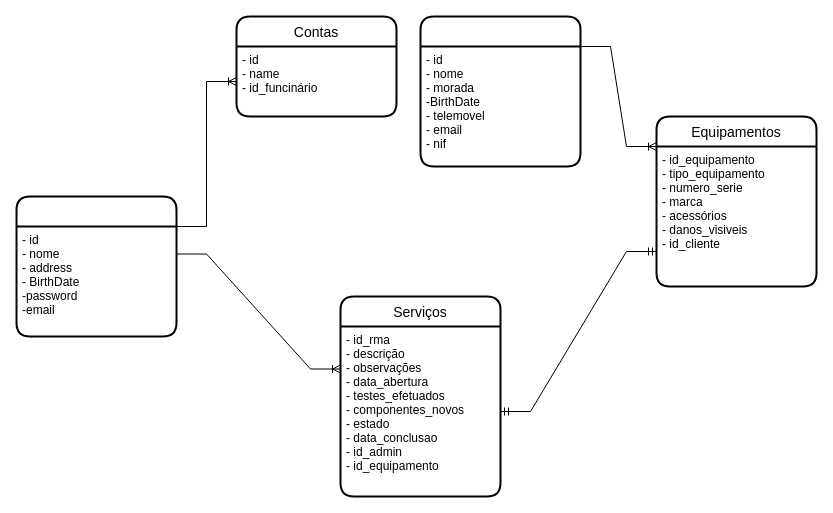
This 833x513 diagram has some shape labels left out. The shapes that lost their labels are listed below. From the top down, each one's box as (x1, y1, x2, y2) in pixels, then its label:
(419, 15, 581, 167): Clientes
(15, 195, 177, 337): Técnicos
